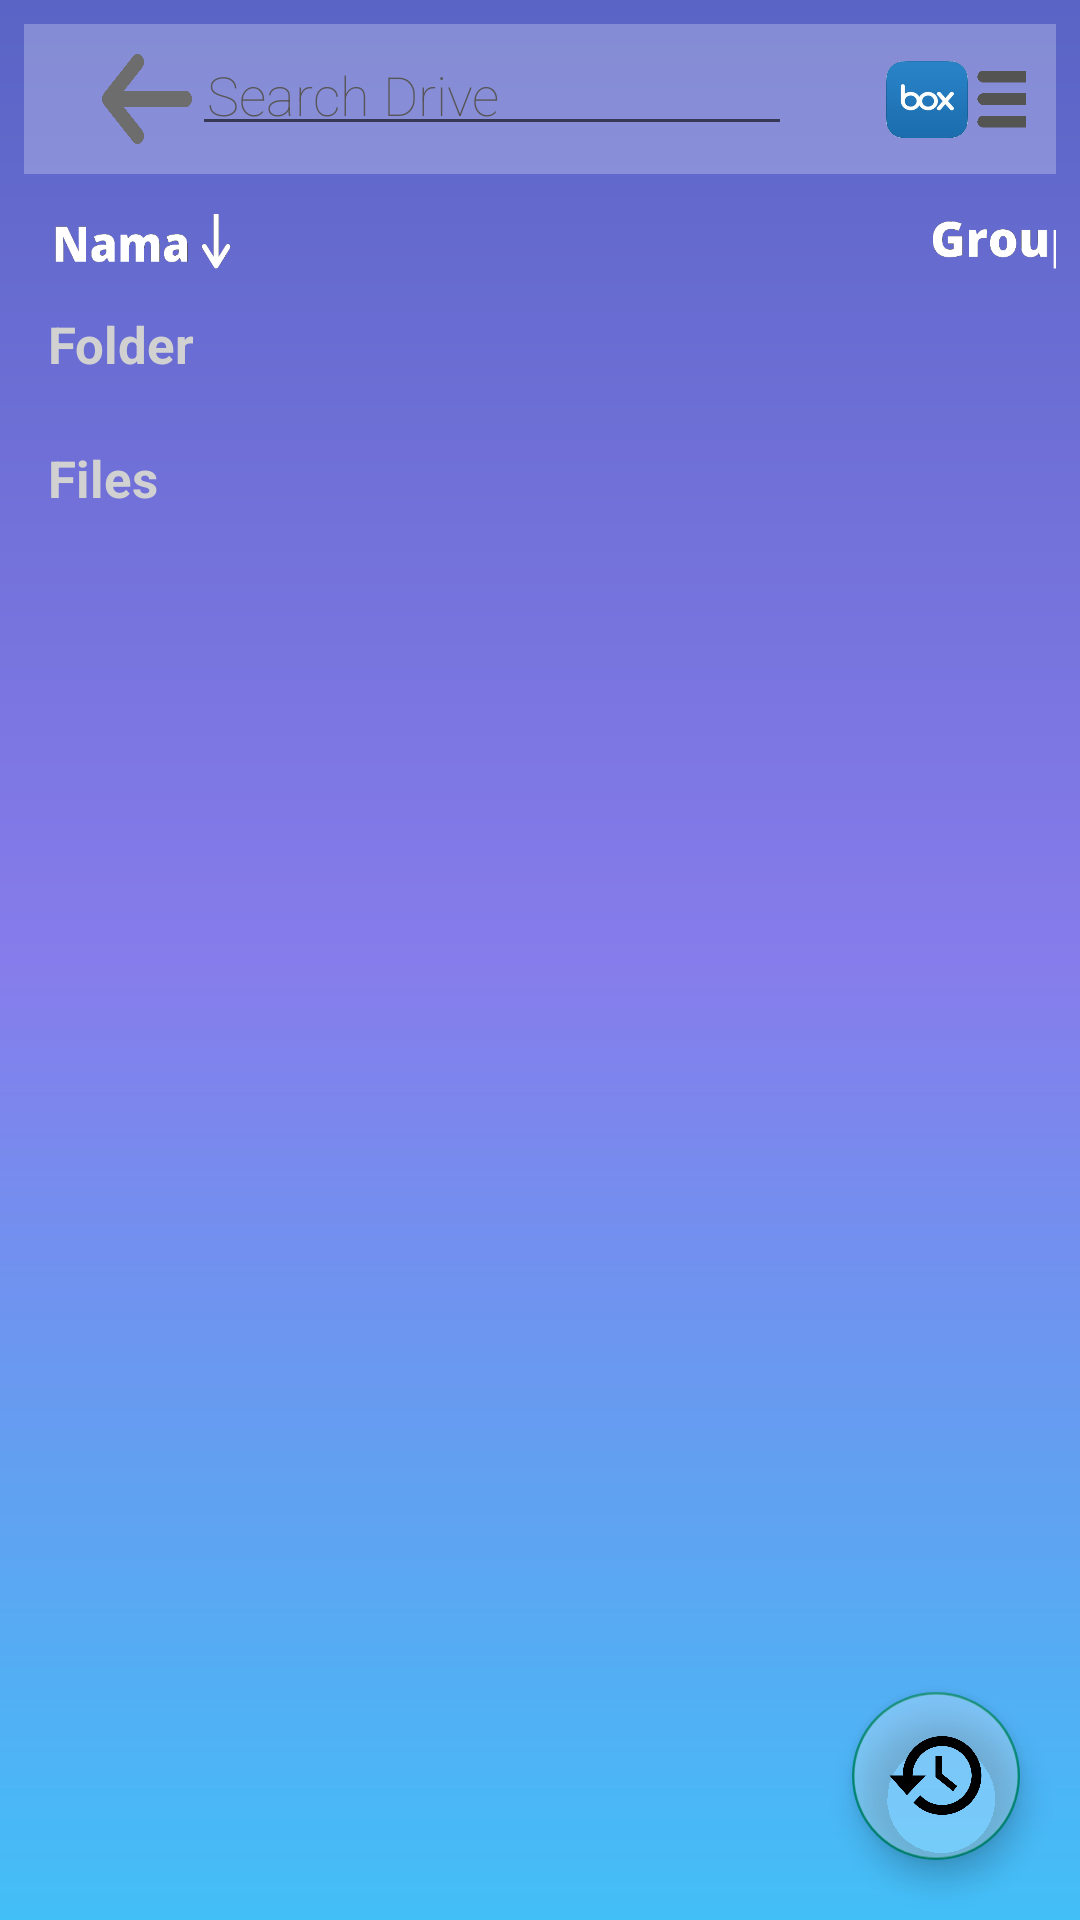

Screen size 1080px×1920px. Icon name, then its center in pixels as (x=x, y=y):
arrow: (x=147, y=99)
hmenu: (x=1001, y=99)
recent: (x=936, y=1776)
